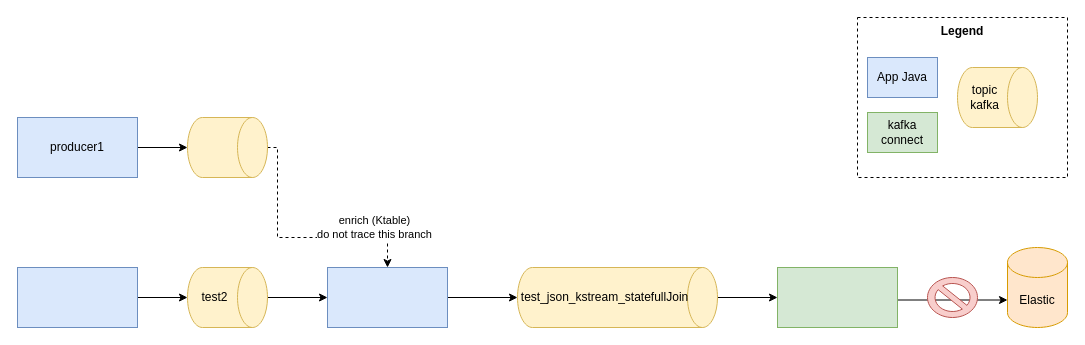
Image size: 1085x345. Some labels were removed from this diagram. The shapes that lost their labels are listed below. From the top down, each one's centre as x and y in pixels, then its label:
At [227,147]: "test1".
At [77,297]: "producer2".
At [387,297]: "kstream statefull".
At [837,297]: "connect-test2".
